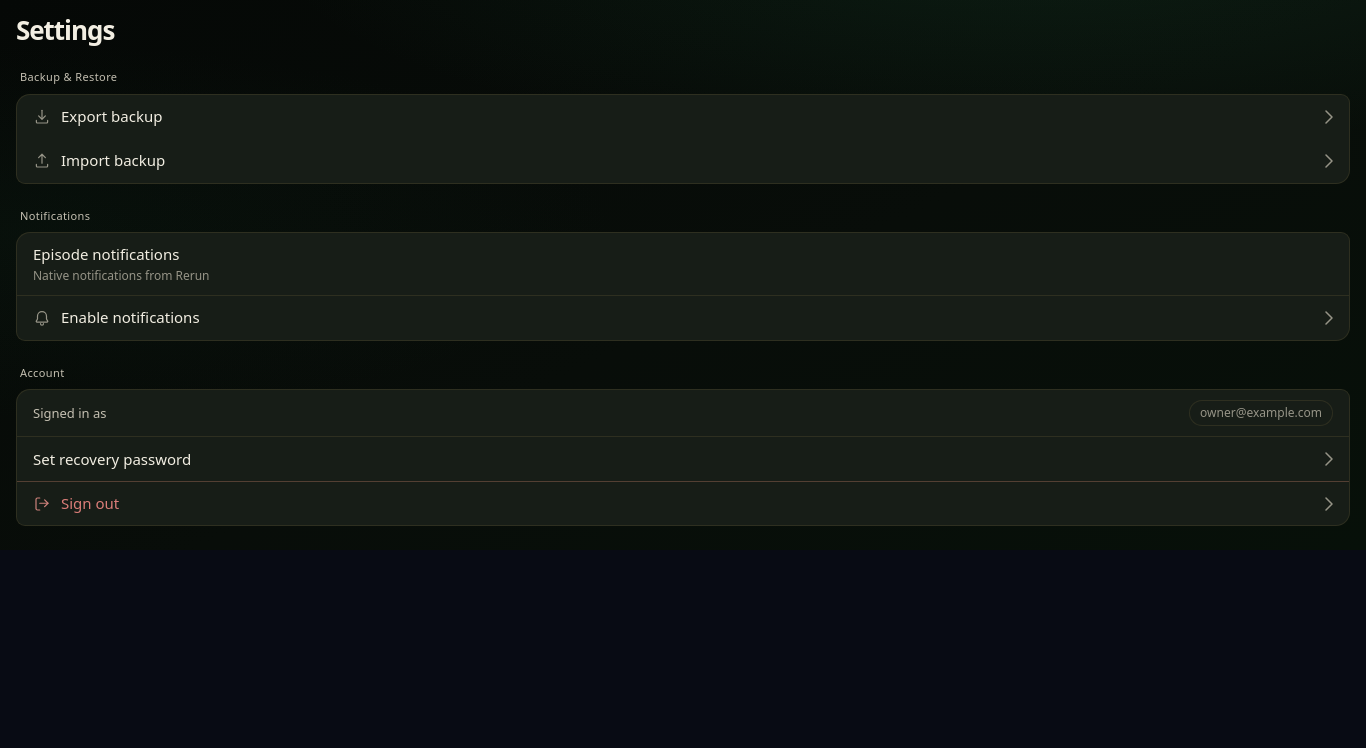
Settings: Notifications section › sends a test notification on tap and reports it as sent, not received
The width and height of the screenshot is (1366, 748).
Click the button "Enable notifications" at (130, 317), box [17, 296, 1349, 340]
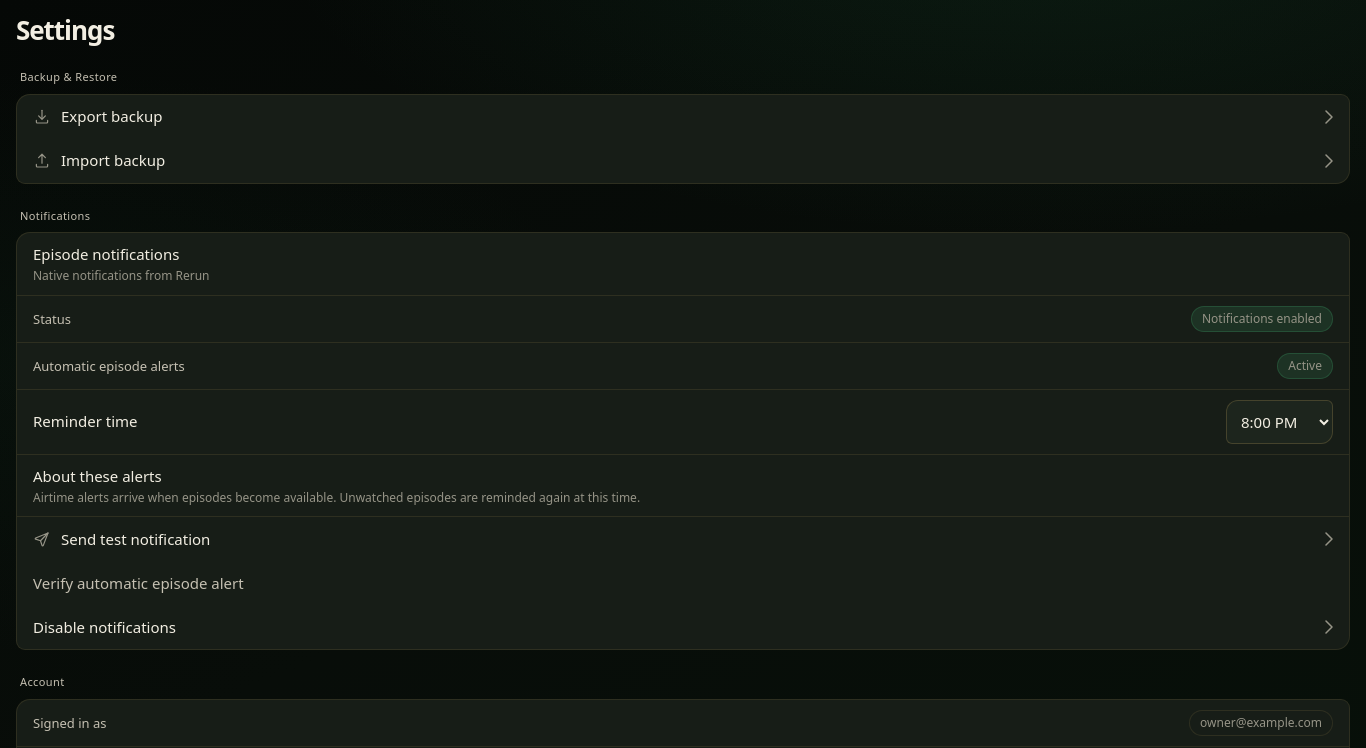
Click the button "Send test notification" at (136, 539), box [17, 517, 1349, 561]
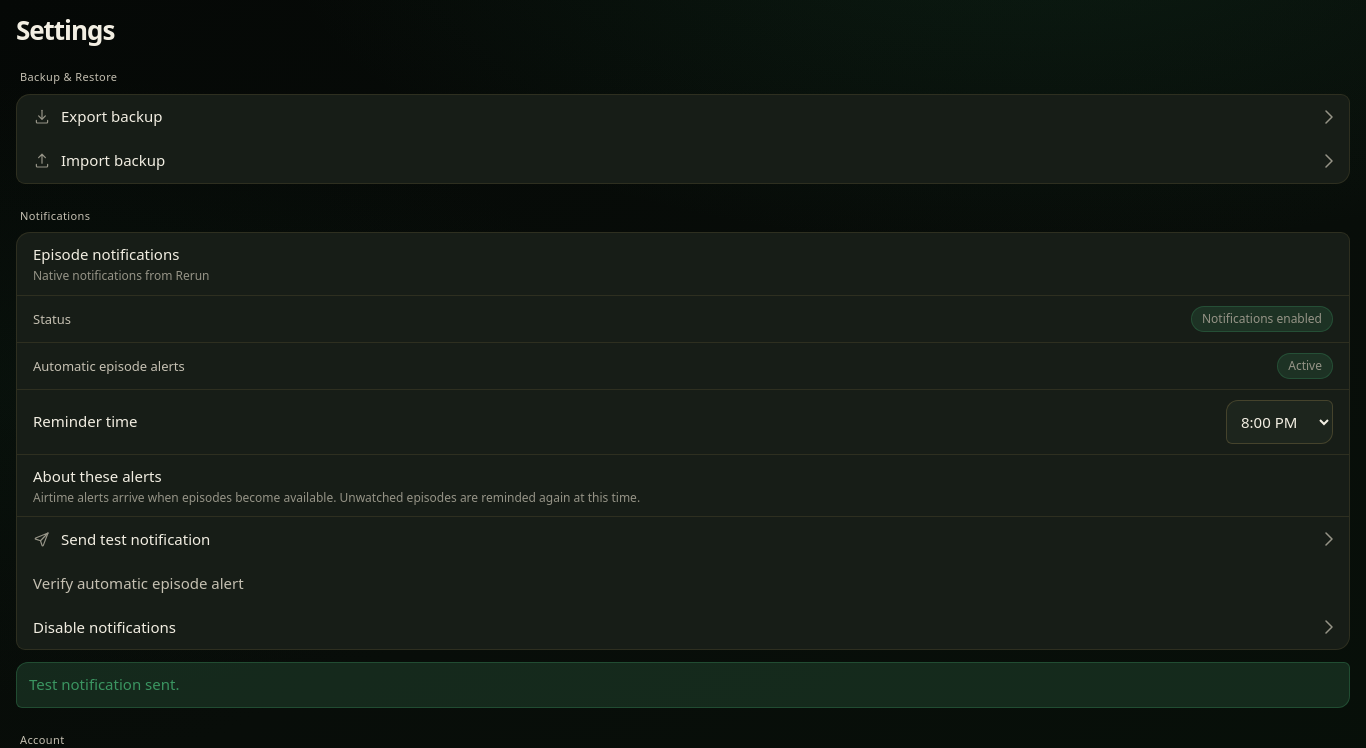
Expected: the text "Test notification sent." is shown, [16, 662, 1350, 708]
